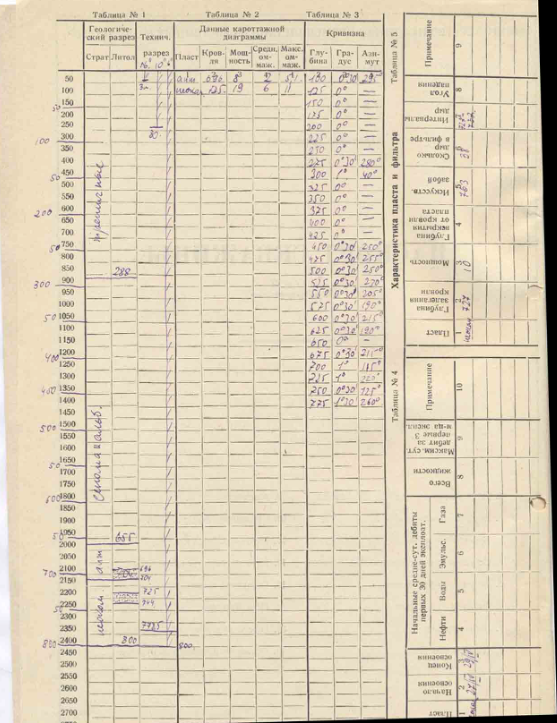Bordered: (303, 17, 389, 438)
